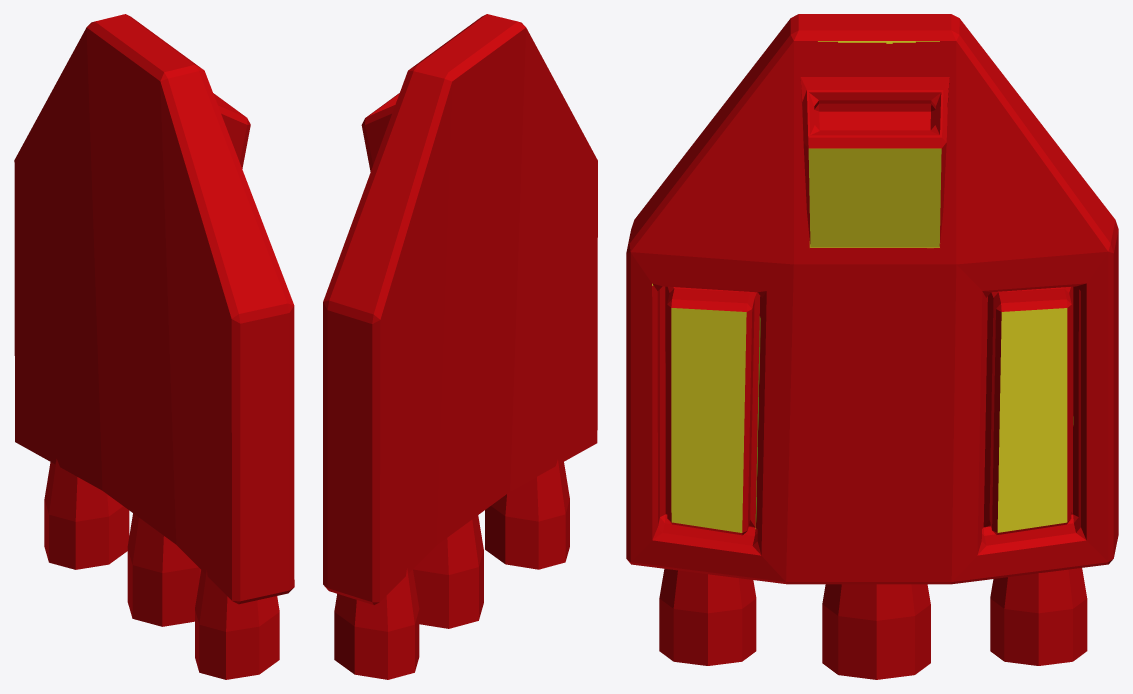
Rendered from RedShip52.fbx.
3 renders of one model, left to right at view 1: azimuth 30°, elevation 25°; view 2: azimuth 150°, elevation 25°; view 3: azimuth 270°, elevation 25°, orthographic. The views are drawn at different scales.
Visible parts, largest first — view 1: Circle.002; view 2: Circle.002; view 3: Circle.002.
Boxes of the visible parts, box(x1,y1,x2,y2) form: Circle.002: box(14, 14, 294, 679); Circle.002: box(323, 14, 597, 679); Circle.002: box(626, 14, 1118, 679).
Size of the model in its own units: 31.37 by 177 by 125.
1 material, 1 textured.
